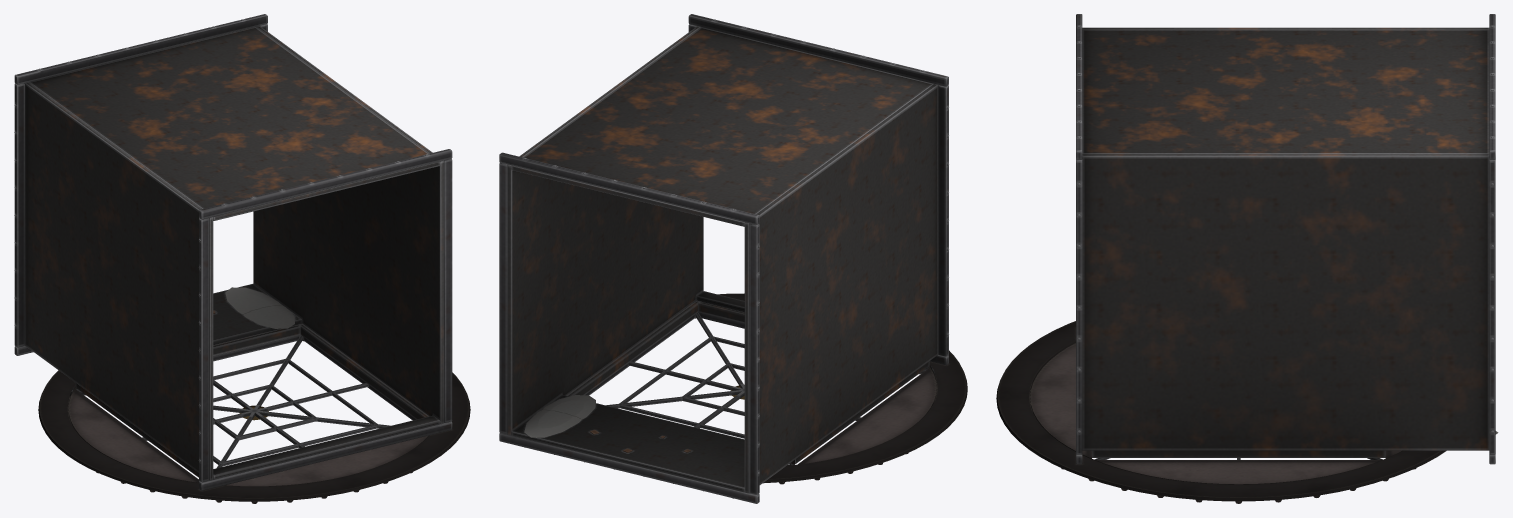
The model's file is VentCeiling.fbx.
3 views of the same model, side by side, from view 1: azimuth 30°, elevation 25°; view 2: azimuth 150°, elevation 25°; view 3: azimuth 270°, elevation 25° (orthographic). The views are drawn at different scales.
Parts seen in each view (by area): view 1: VentCeiling_Main, VentCeiling_Grate0; view 2: VentCeiling_Main, VentCeiling_Grate0; view 3: VentCeiling_Main.
Part boxes in pixels (bbox=[...]): VentCeiling_Main: bbox=[14, 14, 470, 503]; VentCeiling_Grate0: bbox=[70, 335, 415, 467]; VentCeiling_Main: bbox=[499, 14, 967, 503]; VentCeiling_Grate0: bbox=[585, 312, 935, 465]; VentCeiling_Main: bbox=[996, 14, 1498, 503].
Bounding box in the file's own units: 924 × 693 × 957.
